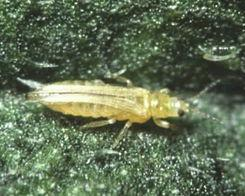tiny_pests: (0, 63, 218, 154)
